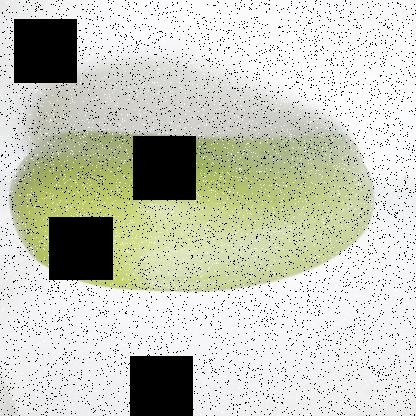freshunripe: (3, 116, 385, 298)
